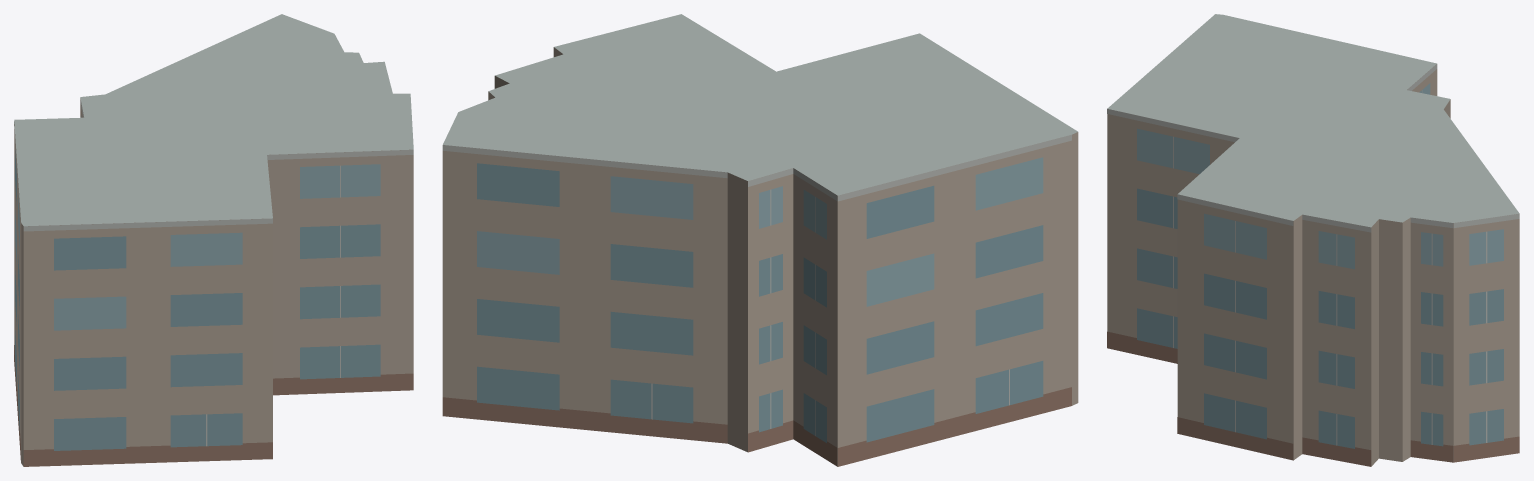
The model's file is survey-upis-32990634.glb.
3 renders of one model, left to right at view 1: azimuth 30°, elevation 25°; view 2: azimuth 150°, elevation 25°; view 3: azimuth 270°, elevation 25°, orthographic. The views are drawn at different scales.
Parts seen in each view (by area): view 1: survey-upis-32990634.tmp; view 2: survey-upis-32990634.tmp; view 3: survey-upis-32990634.tmp.
Part boxes in pixels (bbox=[...]): survey-upis-32990634.tmp: bbox=[14, 14, 413, 466]; survey-upis-32990634.tmp: bbox=[442, 14, 1078, 466]; survey-upis-32990634.tmp: bbox=[1107, 14, 1519, 466].
Size of the model in its own units: 21.5 by 11.25 by 17.57.
